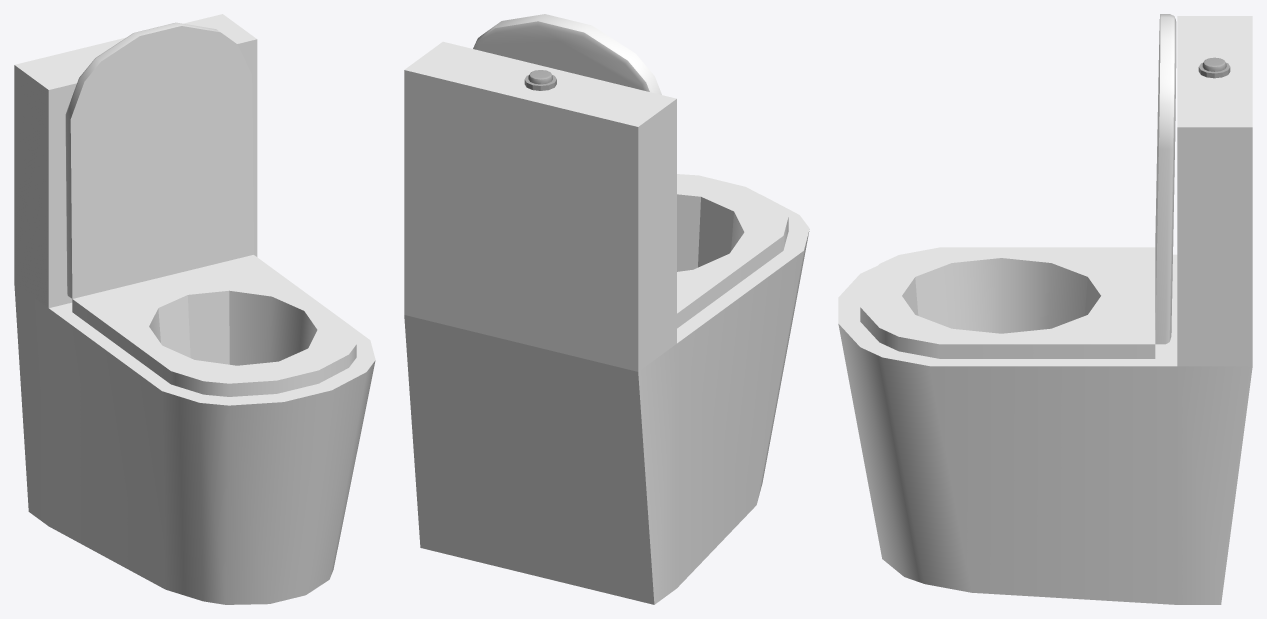
Rendered from toilet_a.fbx.
3 views of the same model, side by side, from view 1: azimuth 30°, elevation 25°; view 2: azimuth 150°, elevation 25°; view 3: azimuth 270°, elevation 25° (orthographic). The views are drawn at different scales.
Parts seen in each view (by area): view 1: toilet_a; view 2: toilet_a; view 3: toilet_a.
Boxes of the visible parts, left/top/right/bottom form: toilet_a: left=14, top=14, right=375, bottom=604; toilet_a: left=404, top=14, right=809, bottom=604; toilet_a: left=838, top=14, right=1252, bottom=604.
Size of the model in its own units: 12 by 26.16 by 18.87.
Materials: 1 (1 with a texture image).
